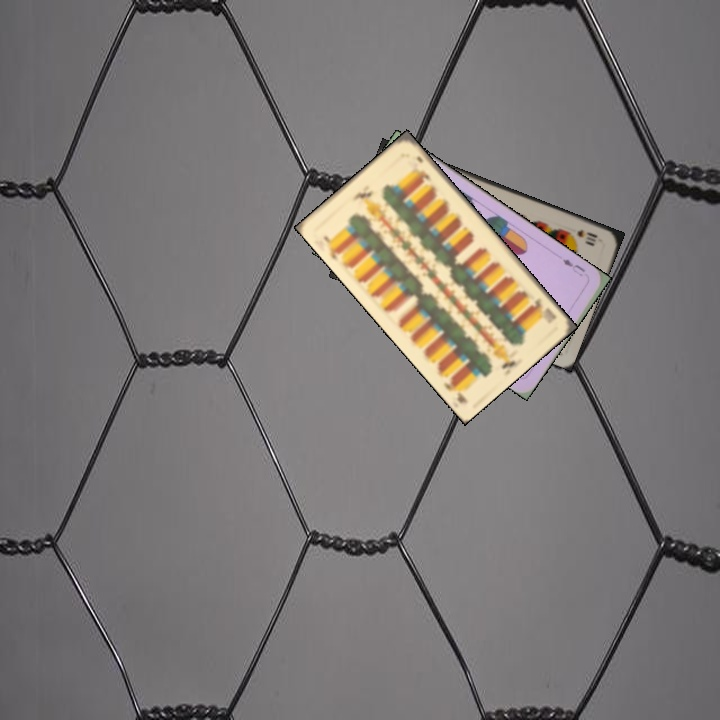E10: (527, 294, 559, 322), (319, 231, 342, 264)
EU: (558, 255, 588, 279)
S10: (573, 226, 600, 244)
